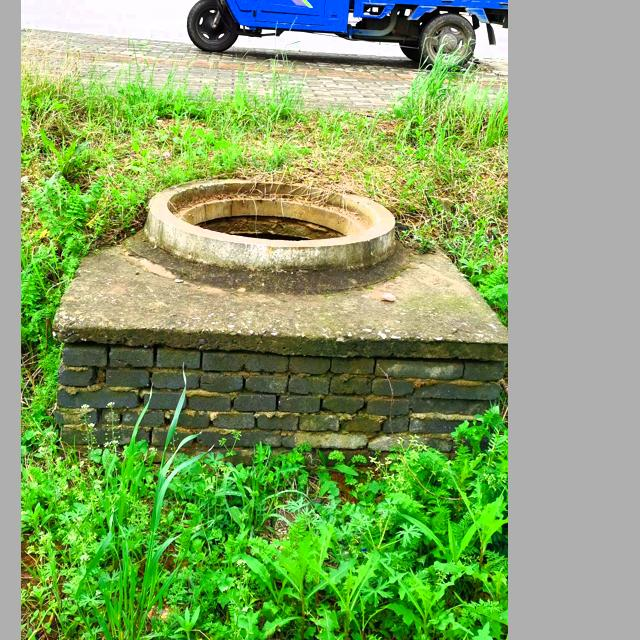lose: (146, 171, 392, 269)
